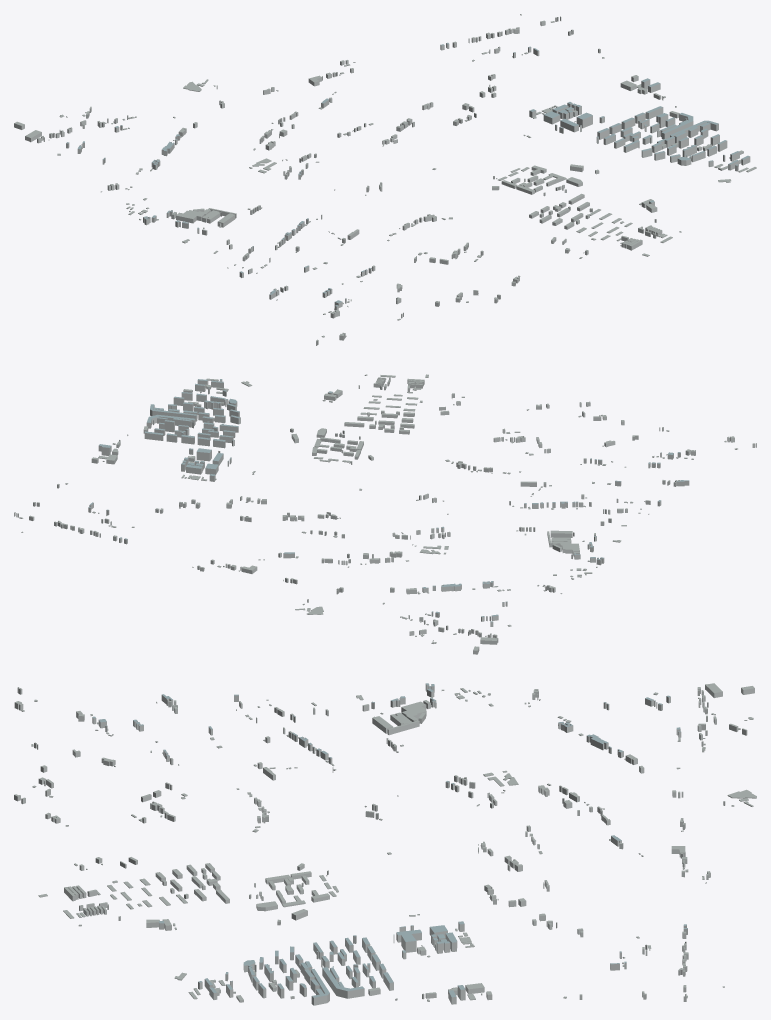
The model's file is far.glb.
The picture shows the model from 3 angles, top to bottom: view 1: azimuth 30°, elevation 25°; view 2: azimuth 150°, elevation 25°; view 3: azimuth 270°, elevation 25°; orthographic projection. The views are drawn at different scales.
Size of the model in its own units: 2143 by 41.44 by 2117.
